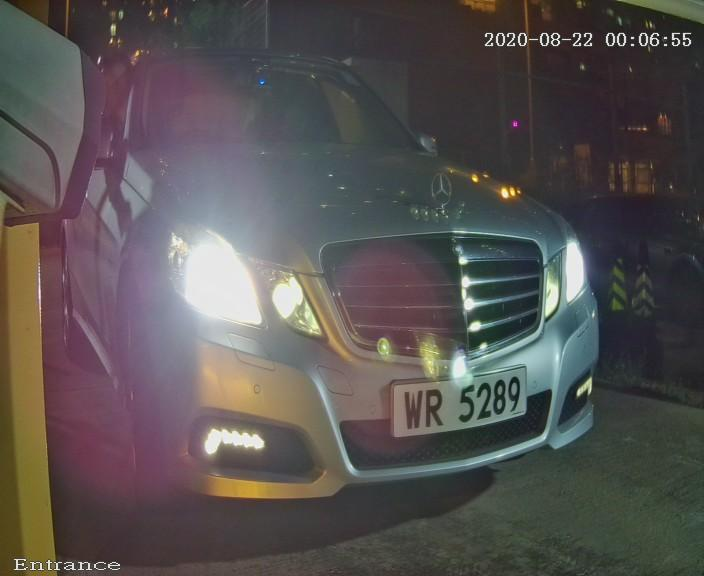Car: (23, 1, 657, 553)
License Plate: (352, 351, 559, 455)
